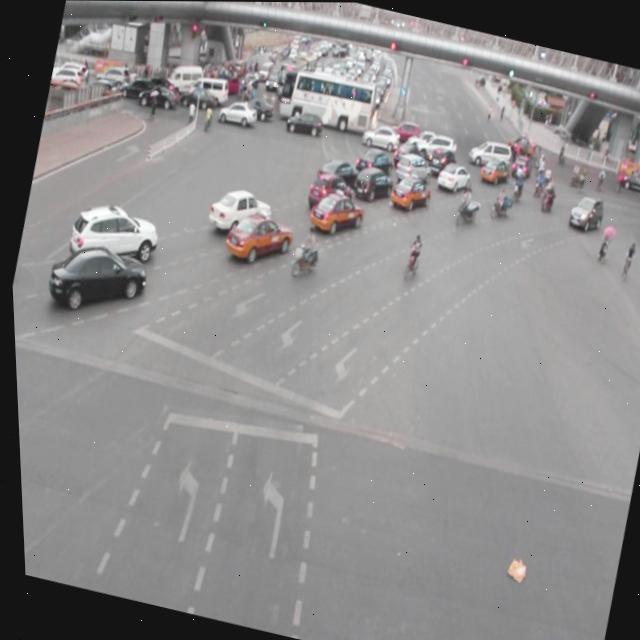car: (42, 238, 149, 314), (64, 197, 161, 270), (219, 206, 294, 267), (202, 178, 273, 238), (302, 182, 366, 240), (301, 166, 355, 217), (311, 152, 359, 197), (384, 170, 432, 214), (561, 189, 605, 235), (350, 163, 394, 204), (350, 144, 392, 184), (390, 148, 432, 186), (431, 159, 470, 195), (474, 156, 509, 188)
